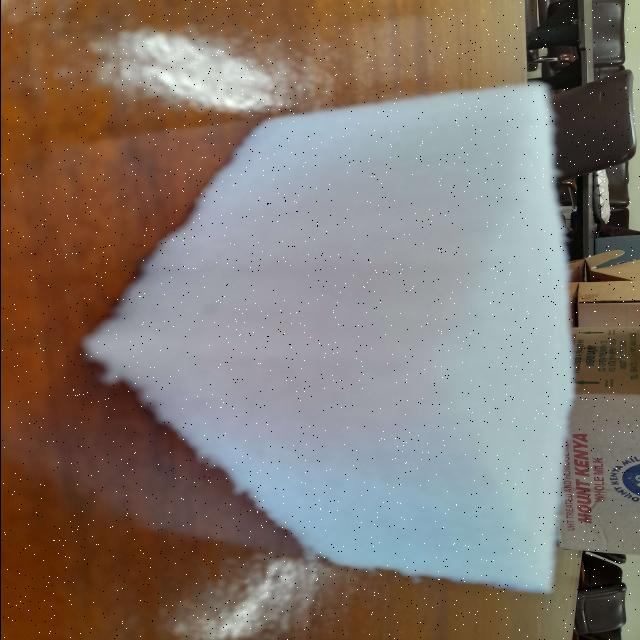trailer: (78, 75, 578, 596)
